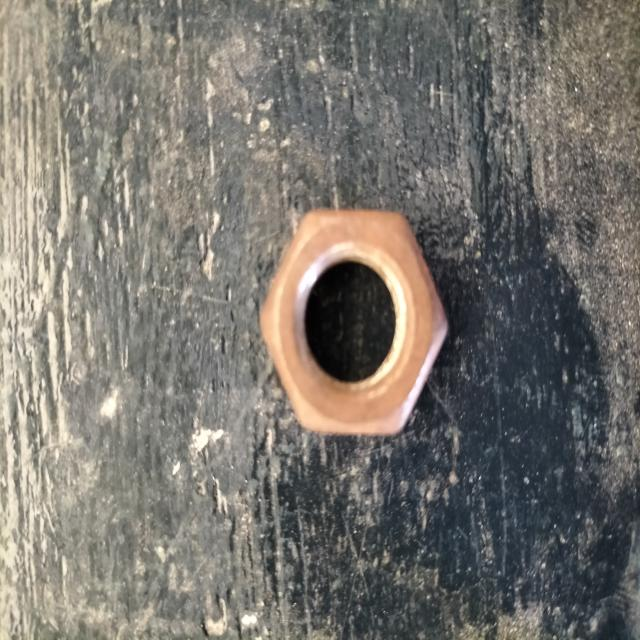nuts: (260, 208, 449, 434)
